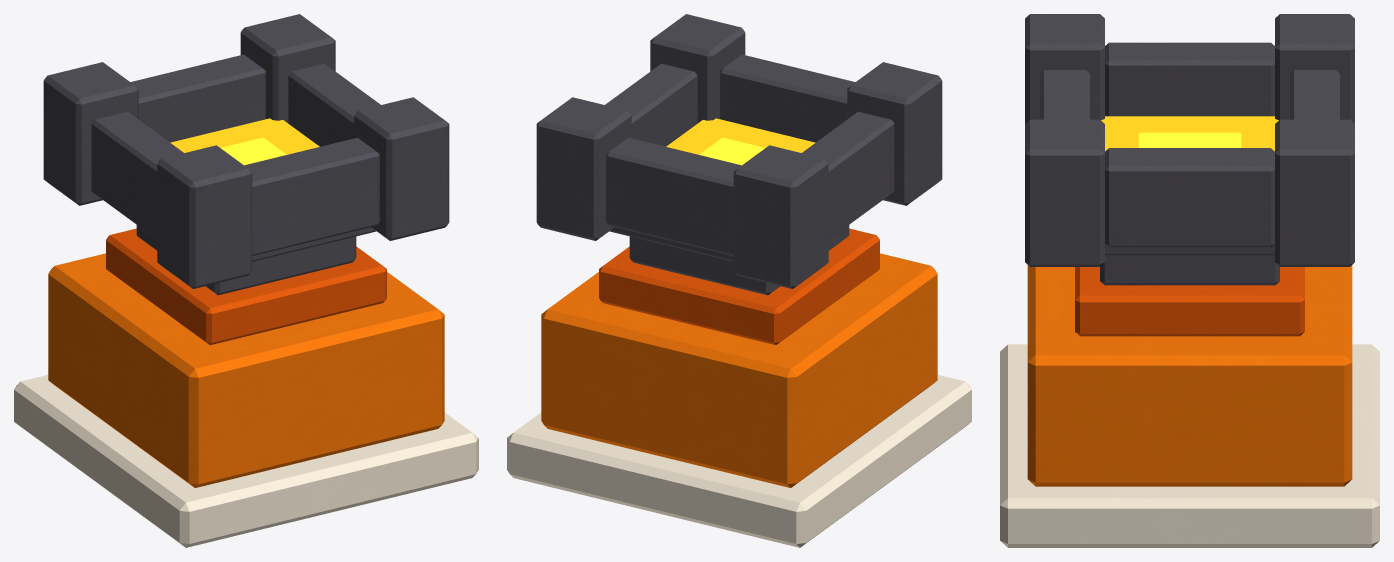
Rendered from lava.glb.
3 views of the same model, side by side, from view 1: azimuth 30°, elevation 25°; view 2: azimuth 150°, elevation 25°; view 3: azimuth 270°, elevation 25° (orthographic). The views are drawn at different scales.
Parts seen in each view (by area): view 1: fixed-geometry, lava-surface, lava-core; view 2: fixed-geometry, lava-surface, lava-core; view 3: fixed-geometry, lava-surface, lava-core.
Part boxes in pixels (x1=…): fixed-geometry: x1=14, y1=14, x2=478, y2=547; lava-surface: x1=170, y1=118, x2=319, y2=154; lava-core: x1=221, y1=137, x2=286, y2=165; fixed-geometry: x1=507, y1=14, x2=971, y2=547; lava-surface: x1=666, y1=118, x2=815, y2=154; lava-core: x1=699, y1=137, x2=764, y2=165; fixed-geometry: x1=1000, y1=14, x2=1379, y2=547; lava-surface: x1=1101, y1=116, x2=1278, y2=151; lava-core: x1=1138, y1=132, x2=1241, y2=147.
Bounding box in the file's own units: 0.76 × 0.86 × 0.76.
Materials: 3 (1 with a texture image).
